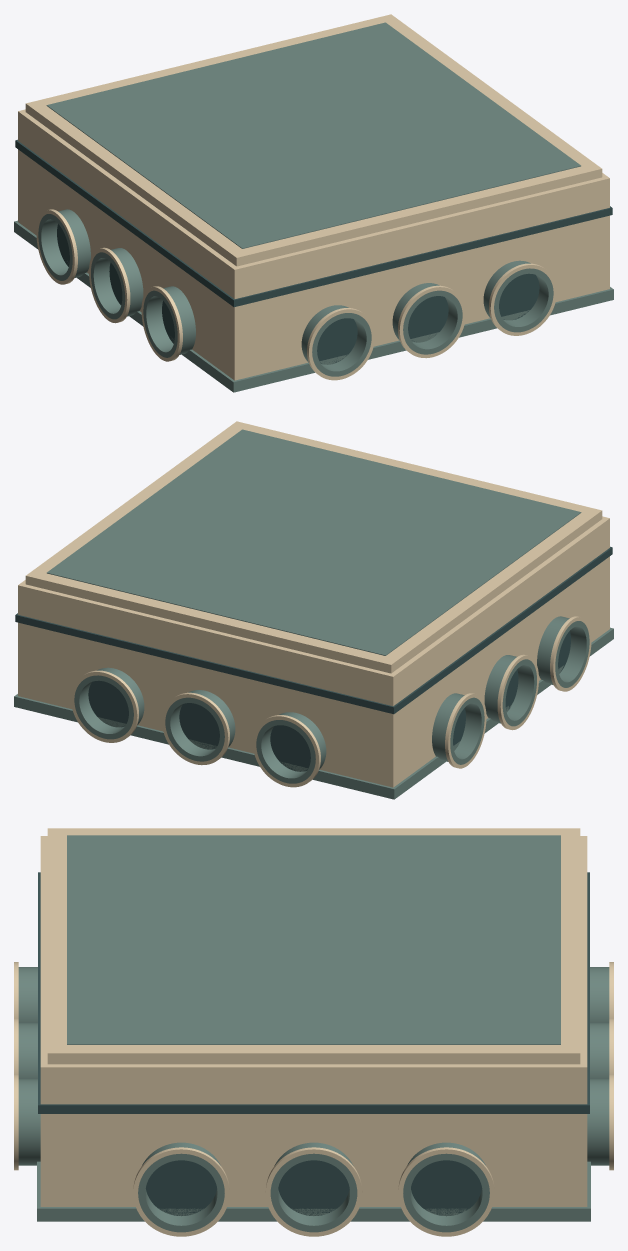
Rendered from Tube_Connector_3x3.glb.
The picture shows the model from 3 angles, top to bottom: view 1: azimuth 30°, elevation 25°; view 2: azimuth 150°, elevation 25°; view 3: azimuth 270°, elevation 25°; orthographic projection. The views are drawn at different scales.
Parts seen in each view (by area): view 1: Tube_Connector_3x3; view 2: Tube_Connector_3x3; view 3: Tube_Connector_3x3.
Part boxes in pixels (bbox=[...]): Tube_Connector_3x3: bbox=[14, 14, 613, 392]; Tube_Connector_3x3: bbox=[14, 421, 613, 799]; Tube_Connector_3x3: bbox=[14, 828, 613, 1236].
Bounding box in the file's own units: 4.98 × 1.56 × 4.98.
